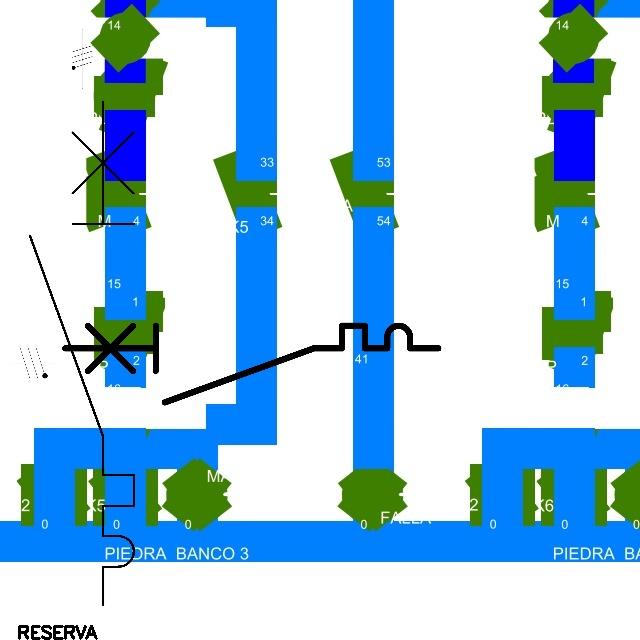interruptor_termomagnetico: (17, 88, 147, 618), (55, 316, 447, 412)
